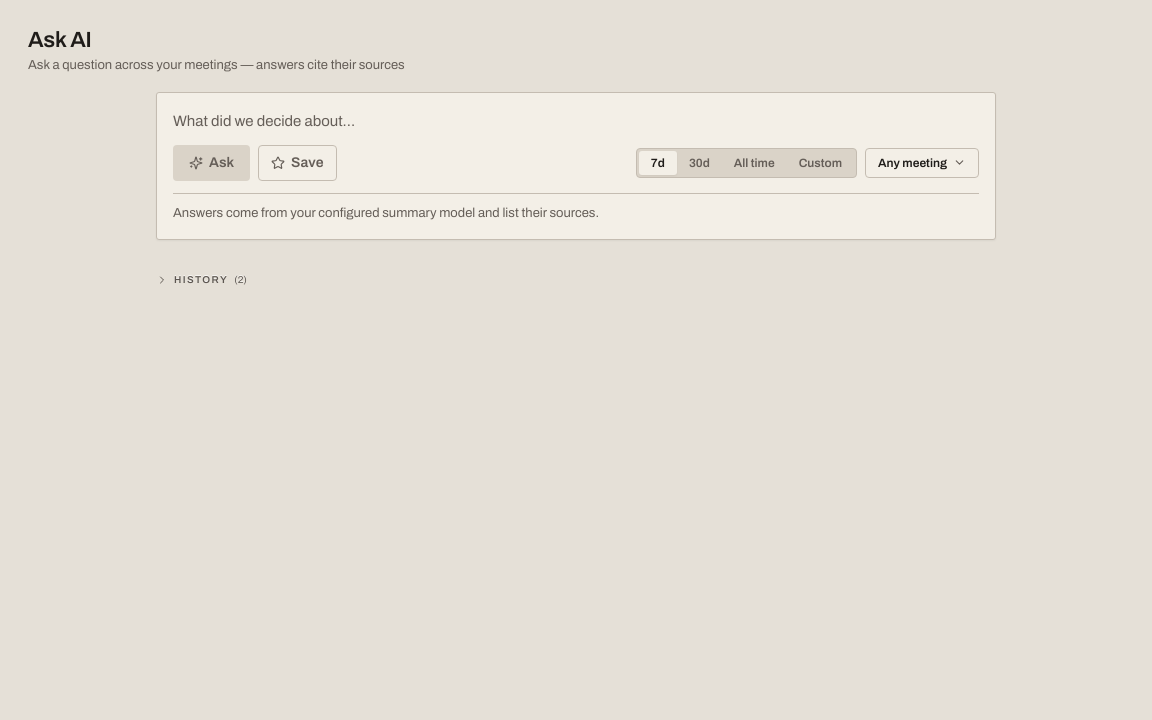
Test: Ask AI — history expands in place › opens the answer under its own row, leaving the top card alone
Click the button "History (2)" at (201, 280), box x1=156 y1=272 x2=247 y2=287
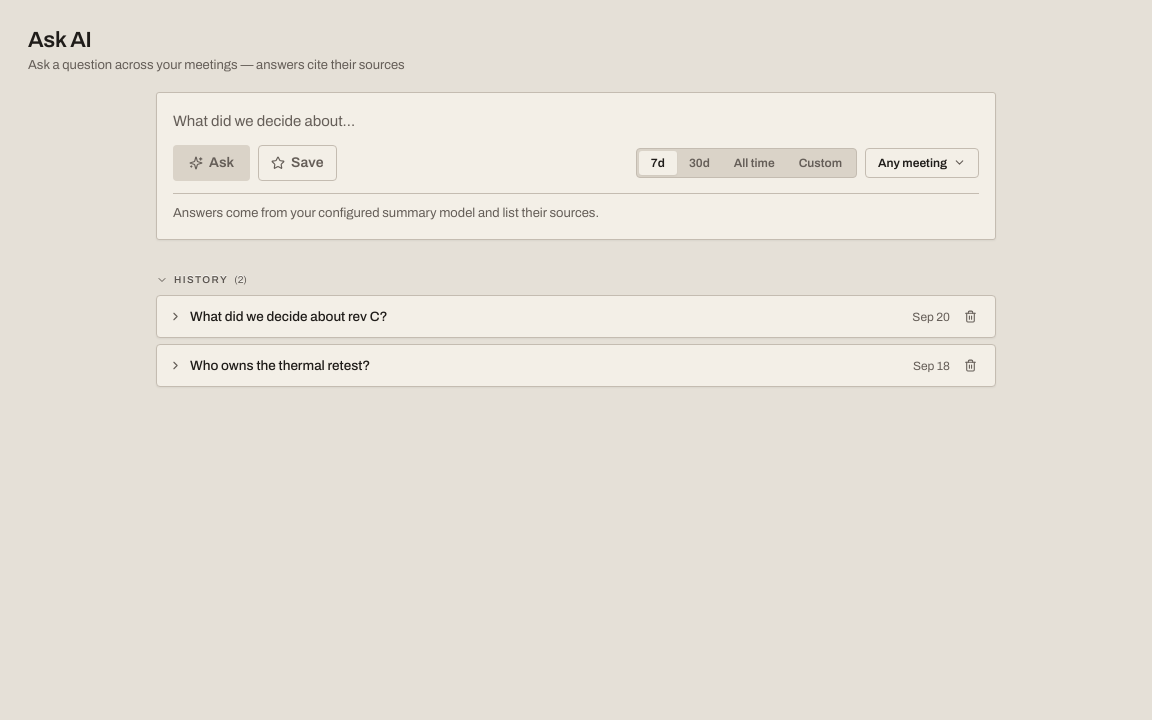
Expected: the text "We ship rev C in October" is not shown
Click the button "What did we decide about rev C? Sep 20" at (289, 316), box x1=169 y1=307 x2=950 y2=327
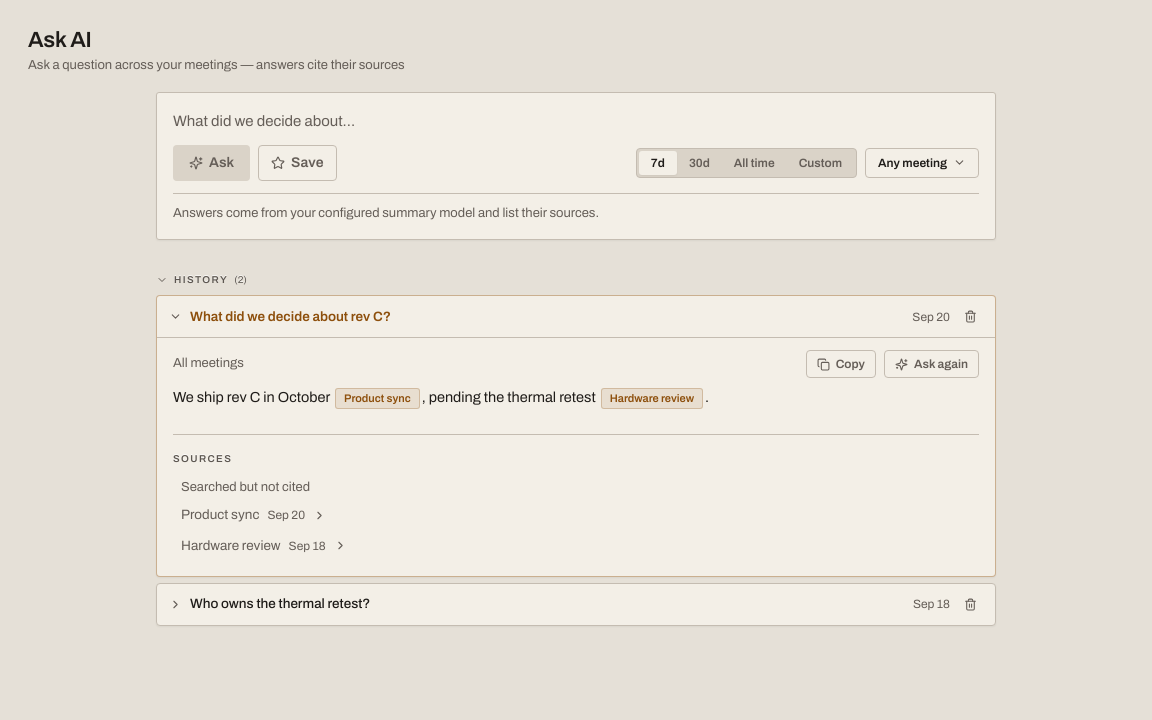
Expected: the field named "Question" is empty, x1=173 y1=110 x2=979 y2=132
Expected: the text "We ship rev C in October" is shown, x1=173 y1=389 x2=333 y2=405
